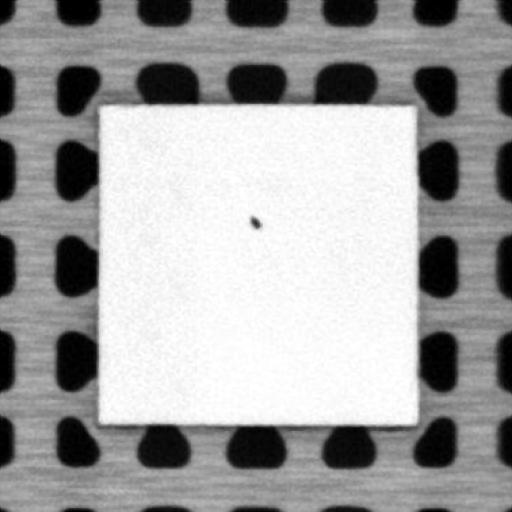DIE_INK: (244, 211, 263, 228)
